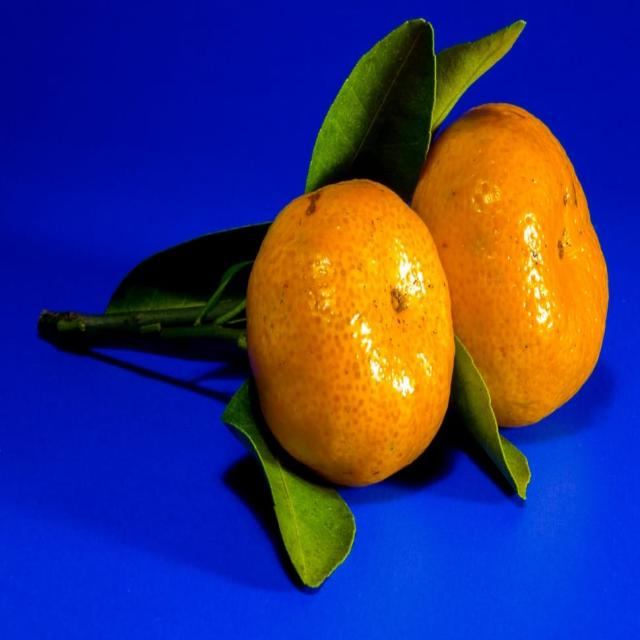orange: (240, 177, 454, 483), (436, 102, 616, 430)
